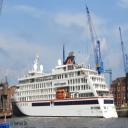cruises: (11, 54, 120, 123)
